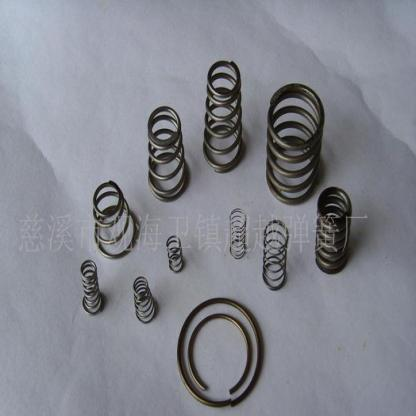FOD: (265, 81, 326, 204), (201, 56, 245, 176), (145, 102, 191, 206), (92, 178, 139, 260), (314, 184, 354, 276), (261, 219, 290, 292), (131, 274, 157, 325), (80, 259, 102, 318), (226, 204, 249, 260), (166, 234, 184, 274)
